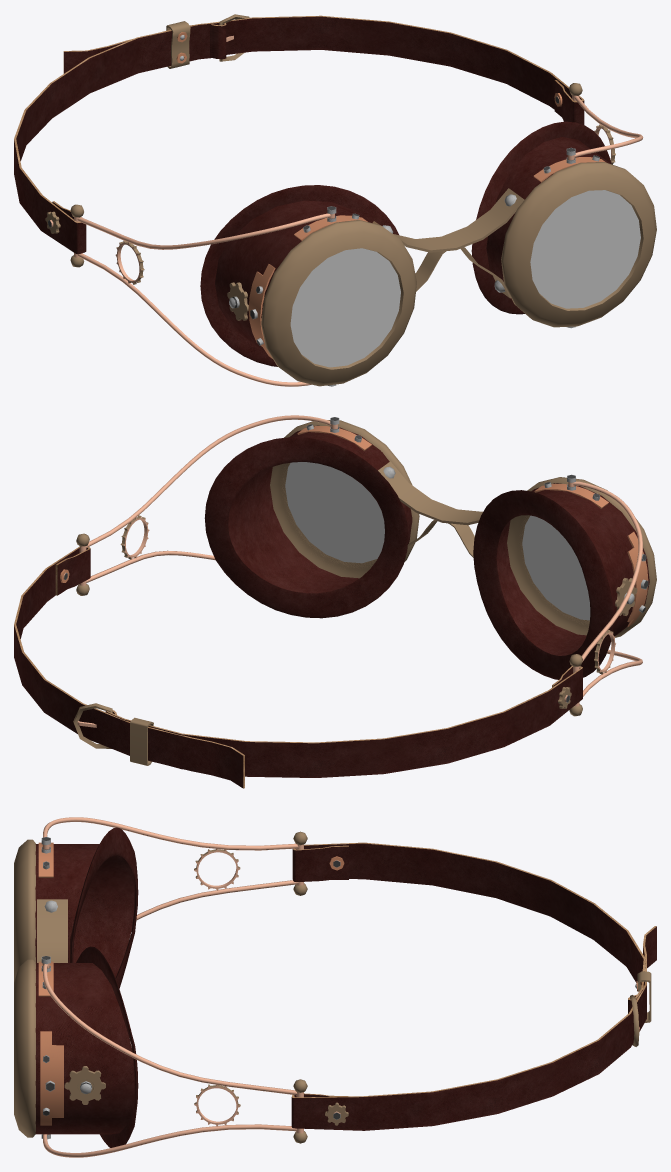
3 renders of one model, top to bottom at view 1: azimuth 30°, elevation 25°; view 2: azimuth 150°, elevation 25°; view 3: azimuth 270°, elevation 25°, orthographic. The views are drawn at different scales.
Visible parts, largest first — view 1: LP_belt1, LP_Glass2, LP_Glass1, LP_frame1, LP_frame2, LP_belt2, LP_body1, LP_frame_eyewire2, LP_frame_eyewire1, LP_body2, LP_bridge, LP_temple3 (+5 smaller); view 2: LP_frame_eyewire1, LP_belt2, LP_belt1, LP_frame_eyewire2, LP_body2, LP_body1, LP_Glass1, LP_Glass2, LP_frame2, LP_frame1, LP_bridge, LP_temple4 (+5 smaller); view 3: LP_belt2, LP_belt1, LP_body2, LP_body1, LP_frame2, LP_frame1, LP_frame_eyewire2, LP_metal_plate3, LP_bridge, LP_frame_eyewire1, LP_temple4, LP_temple1 (+3 smaller).
Part boxes in pixels (left/top/right/bottom): LP_belt1: left=63, top=15, right=584, bottom=124; LP_Glass2: left=290, top=248, right=400, bottom=367; LP_Glass1: left=530, top=190, right=640, bottom=308; LP_frame1: left=261, top=220, right=416, bottom=386; LP_frame2: left=501, top=162, right=656, bottom=327; LP_belt2: left=14, top=22, right=226, bottom=254; LP_body1: left=215, top=200, right=371, bottom=354; LP_frame_eyewire2: left=200, top=185, right=398, bottom=366; LP_frame_eyewire1: left=471, top=121, right=611, bottom=314; LP_body2: left=486, top=137, right=610, bottom=299; LP_bridge: left=372, top=188, right=524, bottom=252; LP_temple3: left=78, top=253, right=311, bottom=386; LP_frame_eyewire1: left=204, top=437, right=408, bottom=618; LP_belt2: left=105, top=666, right=582, bottom=777; LP_belt1: left=14, top=546, right=244, bottom=788; LP_frame_eyewire2: left=473, top=490, right=613, bottom=679; LP_body2: left=228, top=425, right=412, bottom=593; LP_body1: left=496, top=483, right=649, bottom=655; LP_Glass1: left=285, top=462, right=384, bottom=563; LP_Glass2: left=522, top=515, right=590, bottom=620; LP_frame2: left=270, top=420, right=419, bottom=578; LP_frame1: left=507, top=477, right=656, bottom=637; LP_bridge: left=378, top=461, right=482, bottom=525; LP_temple4: left=86, top=415, right=331, bottom=547; LP_belt2: left=292, top=842, right=645, bottom=1013; LP_belt1: left=291, top=926, right=656, bottom=1130; LP_body2: left=35, top=963, right=134, bottom=1134; LP_body1: left=35, top=844, right=134, bottom=977; LP_frame2: left=14, top=959, right=35, bottom=1137; LP_frame1: left=14, top=839, right=35, bottom=981; LP_frame_eyewire2: left=70, top=827, right=138, bottom=988; LP_metal_plate3: left=40, top=1031, right=63, bottom=1125; LP_bridge: left=37, top=899, right=67, bottom=962; LP_frame_eyewire1: left=76, top=946, right=138, bottom=1147; LP_temple4: left=43, top=964, right=297, bottom=1095; LP_temple1: left=43, top=1124, right=297, bottom=1157.
Bounding box in the file's own units: 1.65 × 0.5525 × 1.74.
